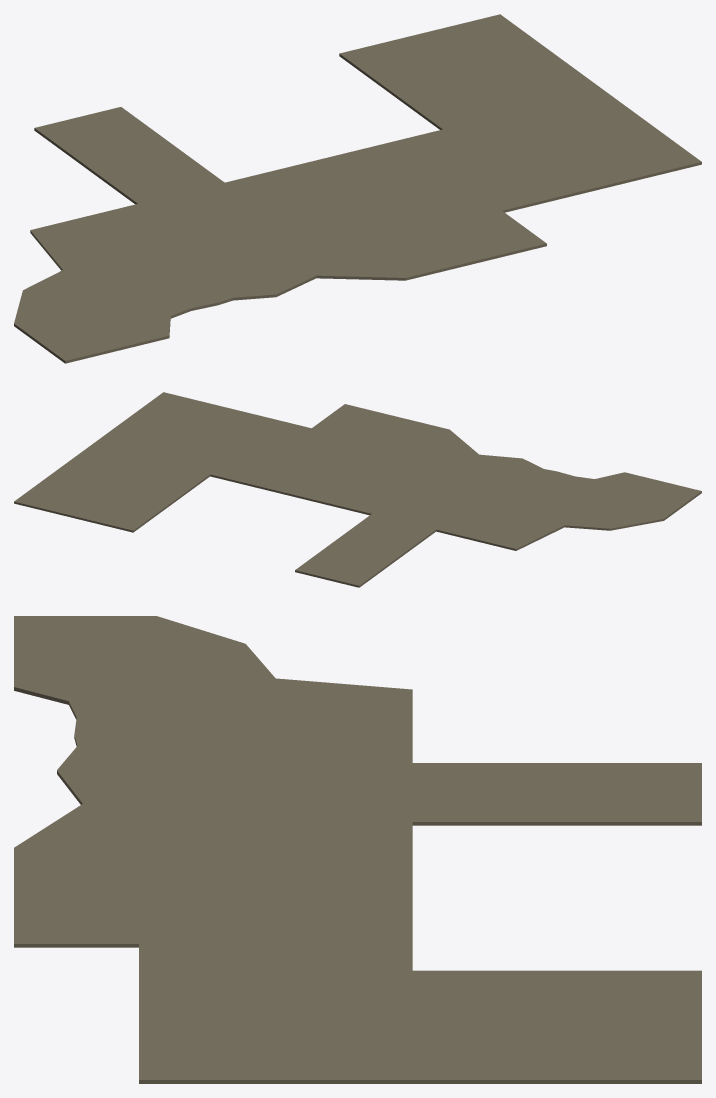
The model's file is TempleTile_C.fbx.
The picture shows the model from 3 angles, top to bottom: view 1: azimuth 30°, elevation 25°; view 2: azimuth 150°, elevation 25°; view 3: azimuth 270°, elevation 25°; orthographic projection. The views are drawn at different scales.
Visible parts, largest first — view 1: TempleTile_C; view 2: TempleTile_C; view 3: TempleTile_C.
Boxes of the visible parts, left/top/right/bottom form: TempleTile_C: left=14, top=14, right=701, bottom=363; TempleTile_C: left=14, top=392, right=701, bottom=587; TempleTile_C: left=14, top=616, right=701, bottom=1083.
Size of the model in its own units: 4588 by 17.36 by 2874.
